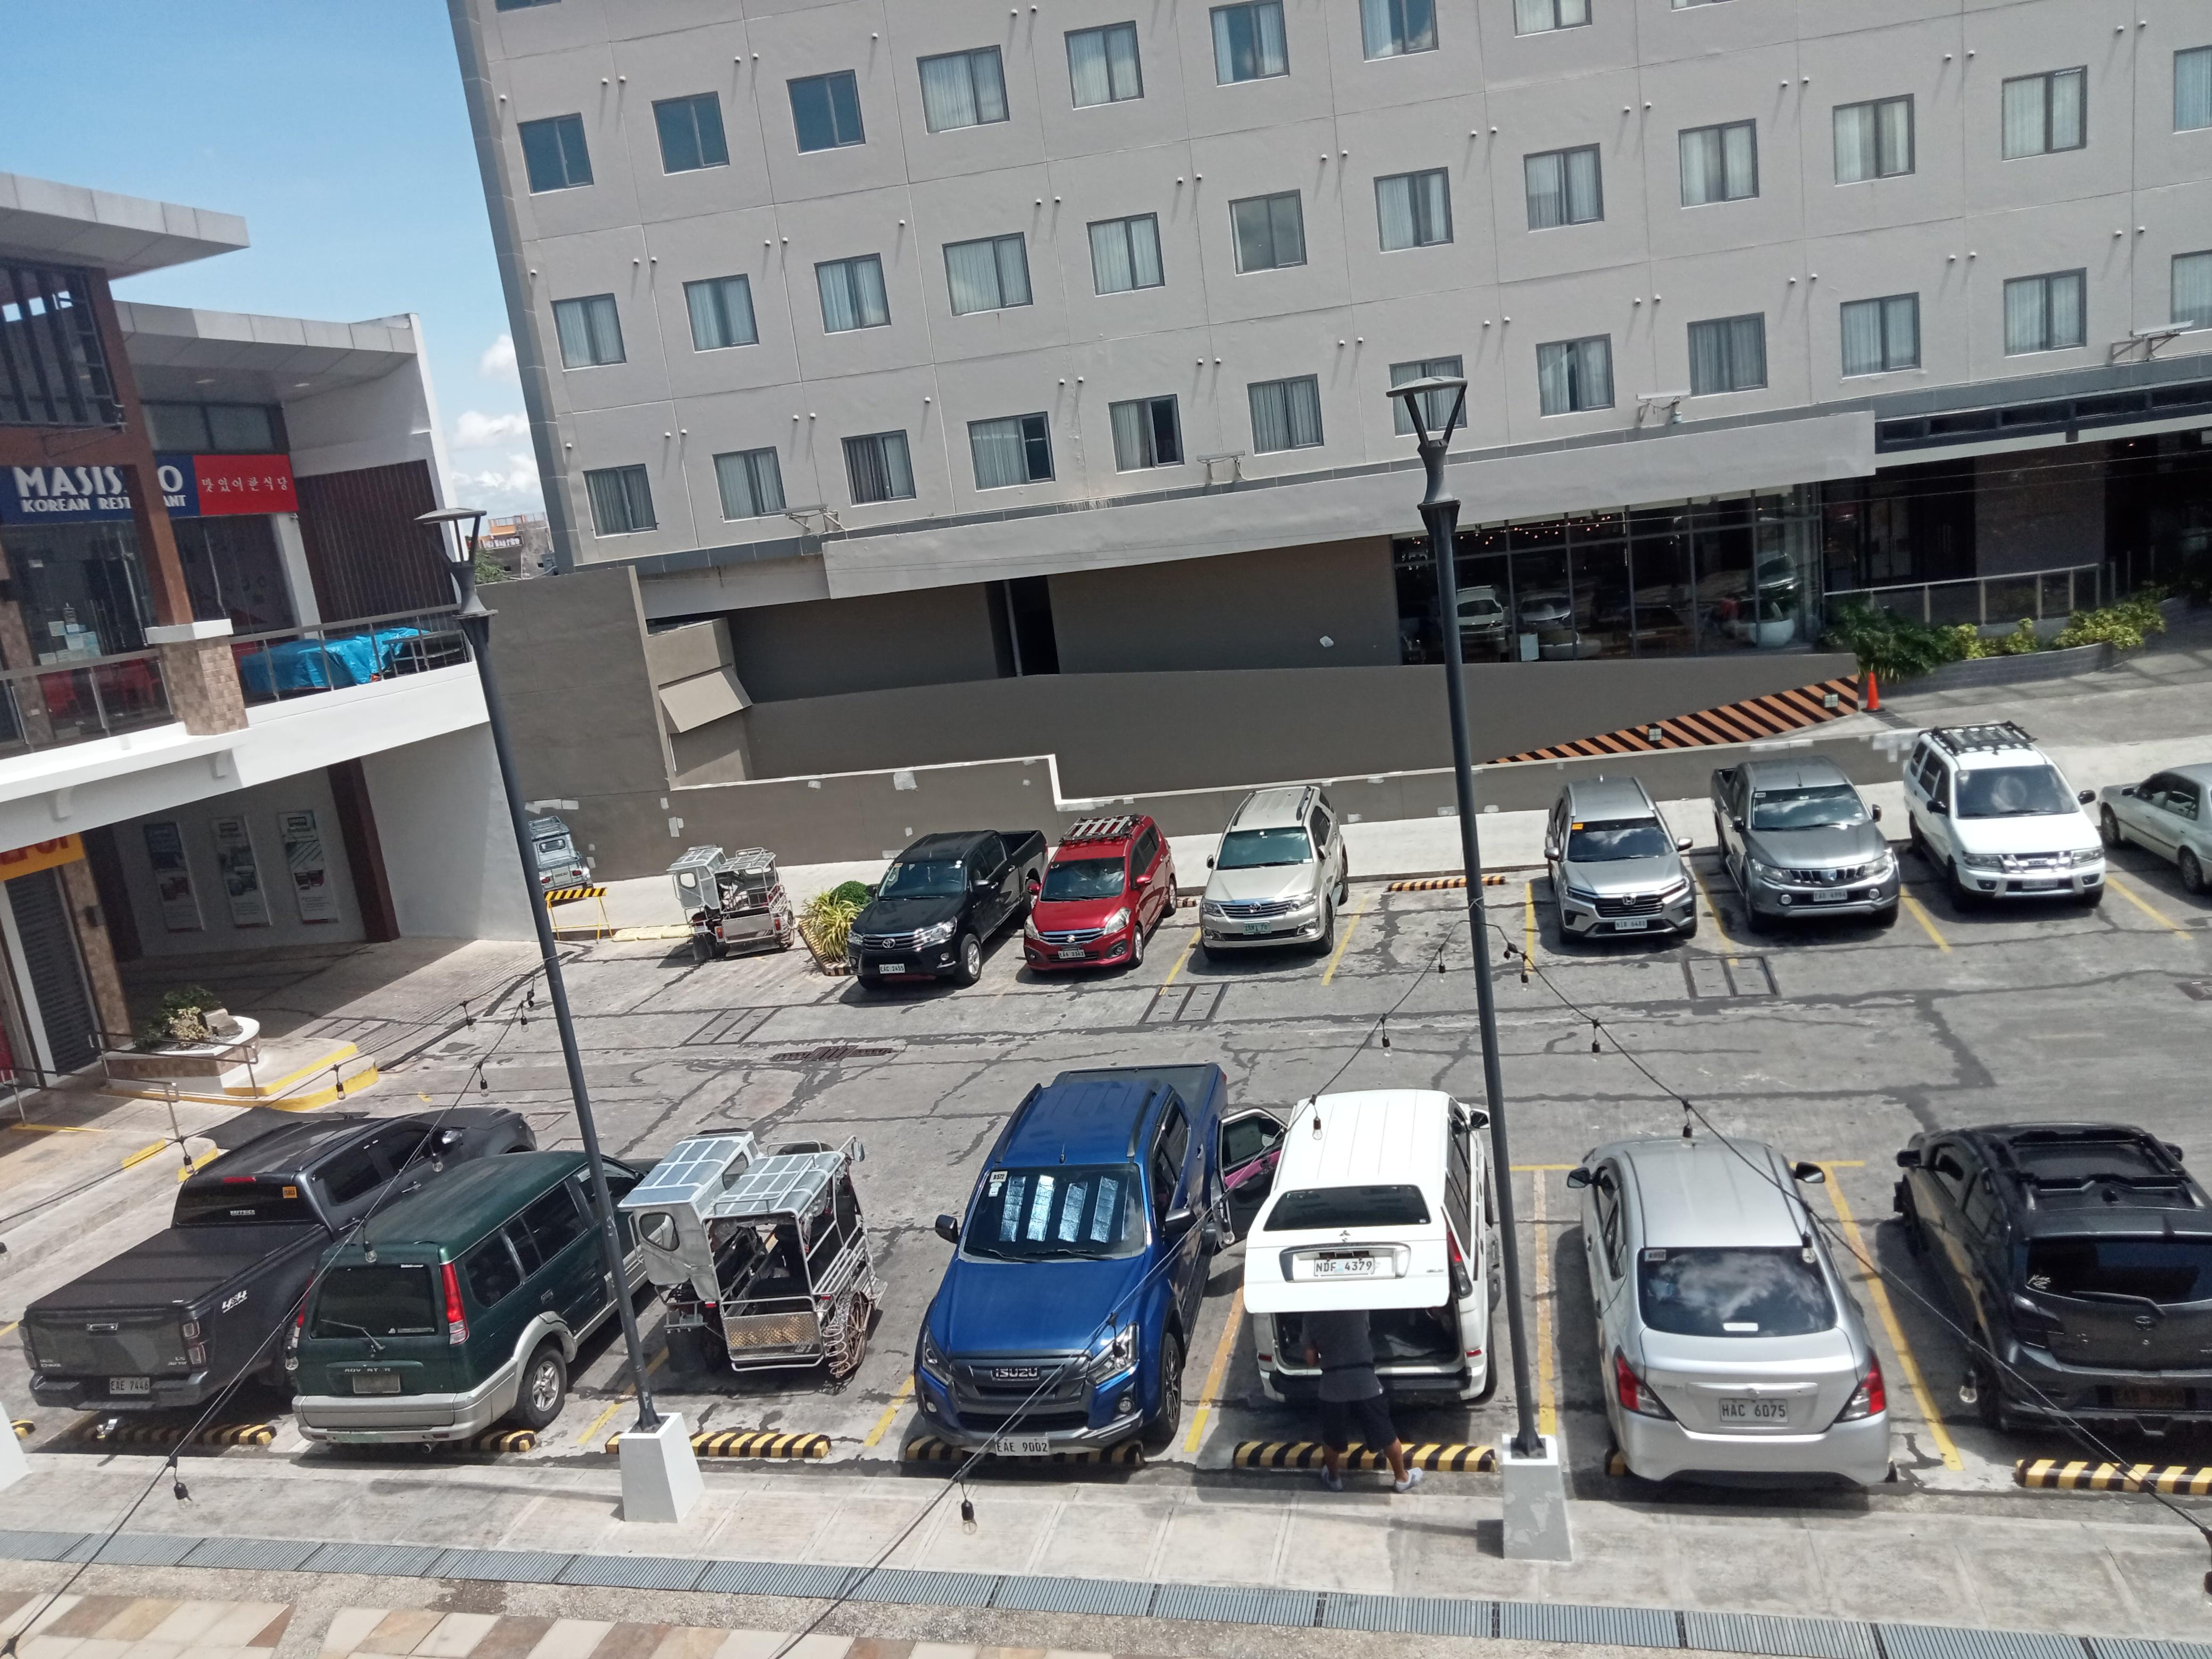occupied: (1533, 1157, 1982, 1499), (841, 1173, 1291, 1467), (1169, 1159, 1557, 1476), (561, 1223, 1008, 1460), (1865, 824, 2182, 953), (1691, 838, 1949, 964), (1157, 878, 1381, 993), (1524, 854, 1738, 971)
vacant: (1322, 868, 1534, 985)
